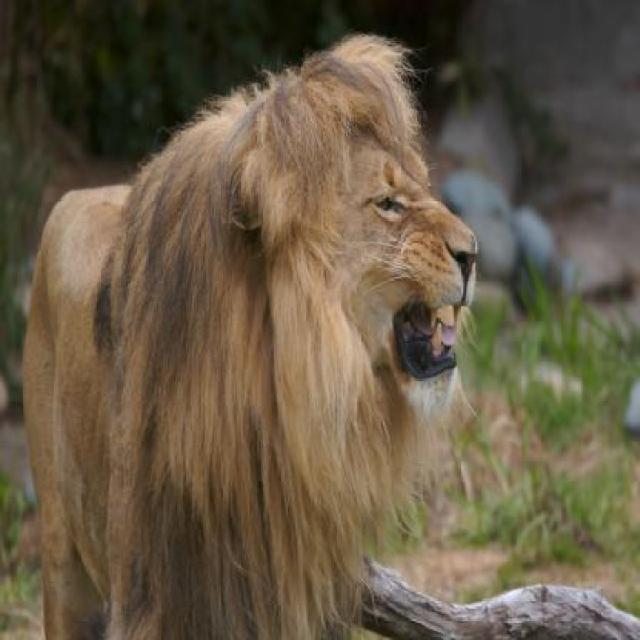Lion: (22, 37, 489, 638)
